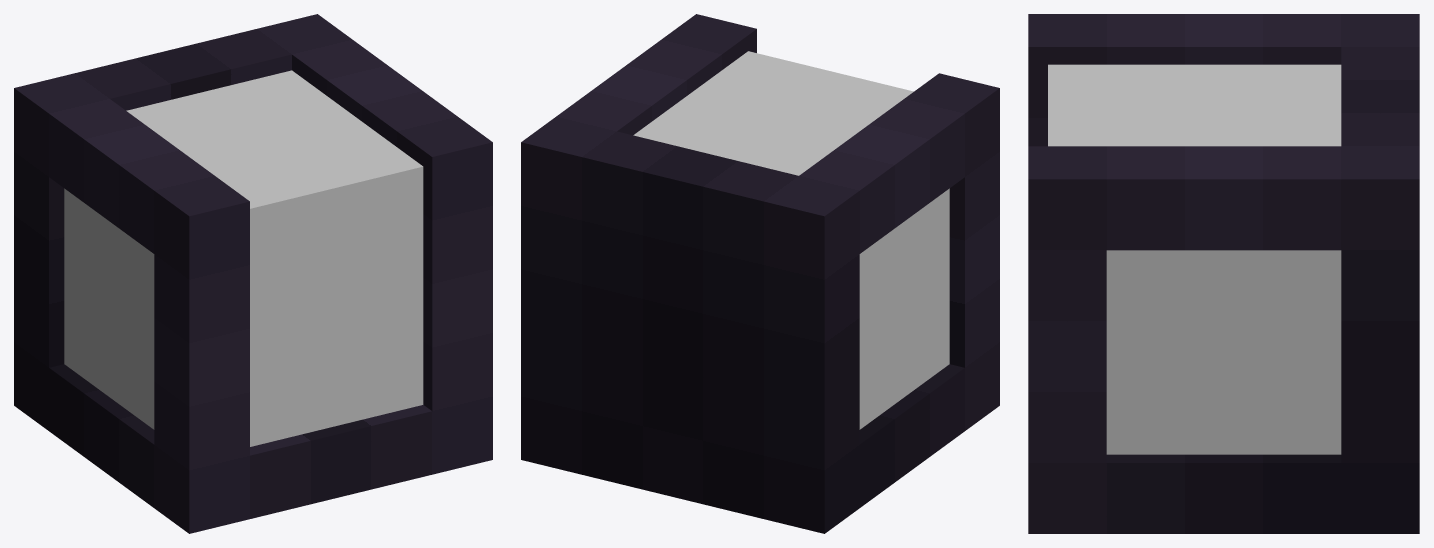
File: head_basic.obj
The picture shows the model from 3 angles, left to right: view 1: azimuth 30°, elevation 25°; view 2: azimuth 150°, elevation 25°; view 3: azimuth 270°, elevation 25°; orthographic projection. The views are drawn at different scales.
Visible parts, largest first — view 1: HEAD_BASIC_Cube.002; view 2: HEAD_BASIC_Cube.002; view 3: HEAD_BASIC_Cube.002.
Boxes of the visible parts, x1,y1,x2,y2 form: HEAD_BASIC_Cube.002: [14, 14, 492, 533]; HEAD_BASIC_Cube.002: [521, 14, 999, 533]; HEAD_BASIC_Cube.002: [1028, 14, 1419, 533].
Size of the model in its own units: 0.3125 by 0.3125 by 0.3125.
